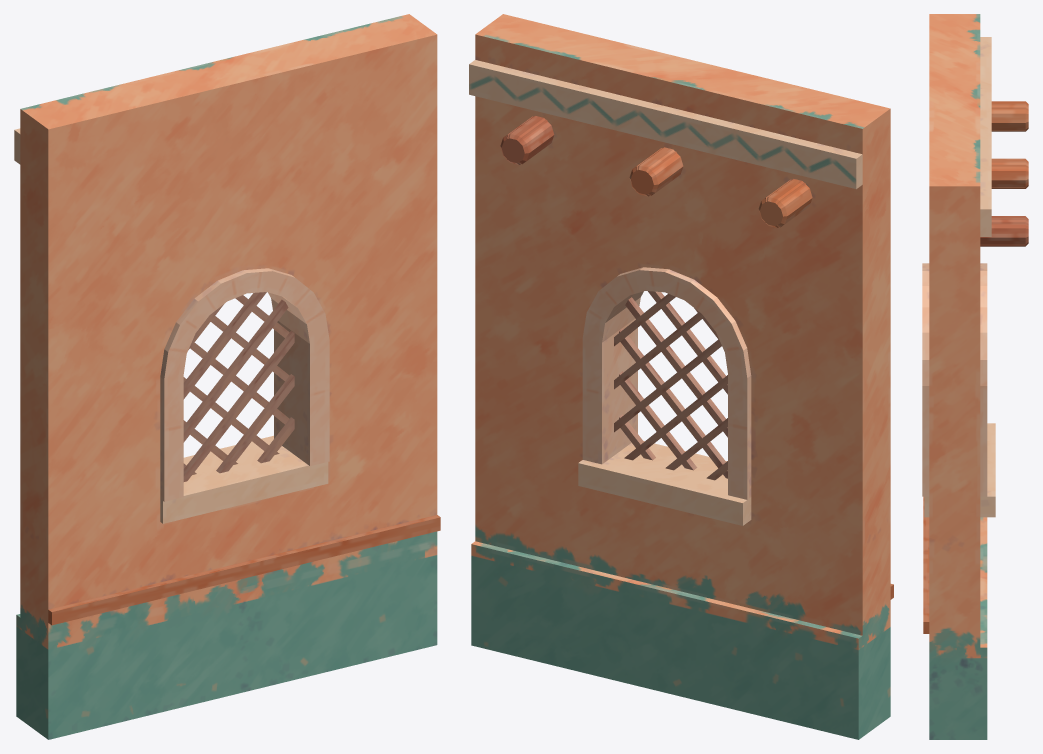
Rendered from wall2_window.bundle.fbx.
The picture shows the model from 3 angles, left to right: view 1: azimuth 30°, elevation 25°; view 2: azimuth 150°, elevation 25°; view 3: azimuth 270°, elevation 25°; orthographic projection. The views are drawn at different scales.
Parts seen in each view (by area): view 1: wall2_window, wall2_window_s00, wall2_window_s04, wall2_window_s02, wall2_window_s07, wall2_window_s10, wall2_window_s01, wall2_window_s03, wall2_window_s05, wall2_window_s08, wall2_window_s06, wall2_window_s09 (+1 smaller); view 2: wall2_window, wall2_window_s02, wall2_window_s04, wall2_window_s10, wall2_window_s00, wall2_window_s08, wall2_window_s09, wall2_window_s03, wall2_window_s05, wall2_window_s07, wall2_window_s06, wall2_window_s11 (+2 smaller); view 3: wall2_window, wall2_window_s07, wall2_window_s04, wall2_window_s08, wall2_window_s03, wall2_window_s05, wall2_window_s00, wall2_window_s11, wall2_window_low, wall2_window_s02.
Part boxes in pixels (x1=…): wall2_window: x1=14, y1=14, x2=440, y2=739; wall2_window_s00: x1=173, y1=473, x2=437, y2=681; wall2_window_s04: x1=252, y1=335, x2=440, y2=539; wall2_window_s02: x1=20, y1=501, x2=283, y2=737; wall2_window_s07: x1=267, y1=15, x2=437, y2=165; wall2_window_s10: x1=20, y1=278, x2=312, y2=521; wall2_window_s01: x1=132, y1=143, x2=299, y2=282; wall2_window_s03: x1=271, y1=260, x2=437, y2=386; wall2_window_s05: x1=105, y1=50, x2=288, y2=179; wall2_window_s08: x1=309, y1=155, x2=437, y2=301; wall2_window_s06: x1=277, y1=115, x2=364, y2=280; wall2_window_s09: x1=20, y1=187, x2=150, y2=426; wall2_window: x1=469, y1=14, x2=893, y2=739; wall2_window_s02: x1=634, y1=494, x2=891, y2=739; wall2_window_s04: x1=471, y1=334, x2=667, y2=553; wall2_window_s10: x1=611, y1=269, x2=890, y2=523; wall2_window_s00: x1=471, y1=447, x2=715, y2=677; wall2_window_s08: x1=475, y1=132, x2=606, y2=308; wall2_window_s09: x1=759, y1=208, x2=890, y2=420; wall2_window_s03: x1=475, y1=264, x2=607, y2=399; wall2_window_s05: x1=618, y1=52, x2=804, y2=204; wall2_window_s07: x1=469, y1=15, x2=649, y2=142; wall2_window_s06: x1=520, y1=88, x2=654, y2=288; wall2_window_s11: x1=779, y1=88, x2=890, y2=237; wall2_window: x1=922, y1=14, x2=1028, y2=739; wall2_window_s07: x1=929, y1=120, x2=991, y2=282; wall2_window_s04: x1=922, y1=397, x2=995, y2=656; wall2_window_s08: x1=923, y1=274, x2=987, y2=394; wall2_window_s03: x1=922, y1=346, x2=987, y2=517; wall2_window_s05: x1=929, y1=49, x2=991, y2=143; wall2_window_s00: x1=923, y1=432, x2=995, y2=739; wall2_window_s11: x1=929, y1=14, x2=991, y2=51; wall2_window_low: x1=980, y1=102, x2=1028, y2=246; wall2_window_s02: x1=926, y1=423, x2=995, y2=560.
Bounding box in the file's own units: 8 × 12 × 2.09.
1 material, 1 textured.
